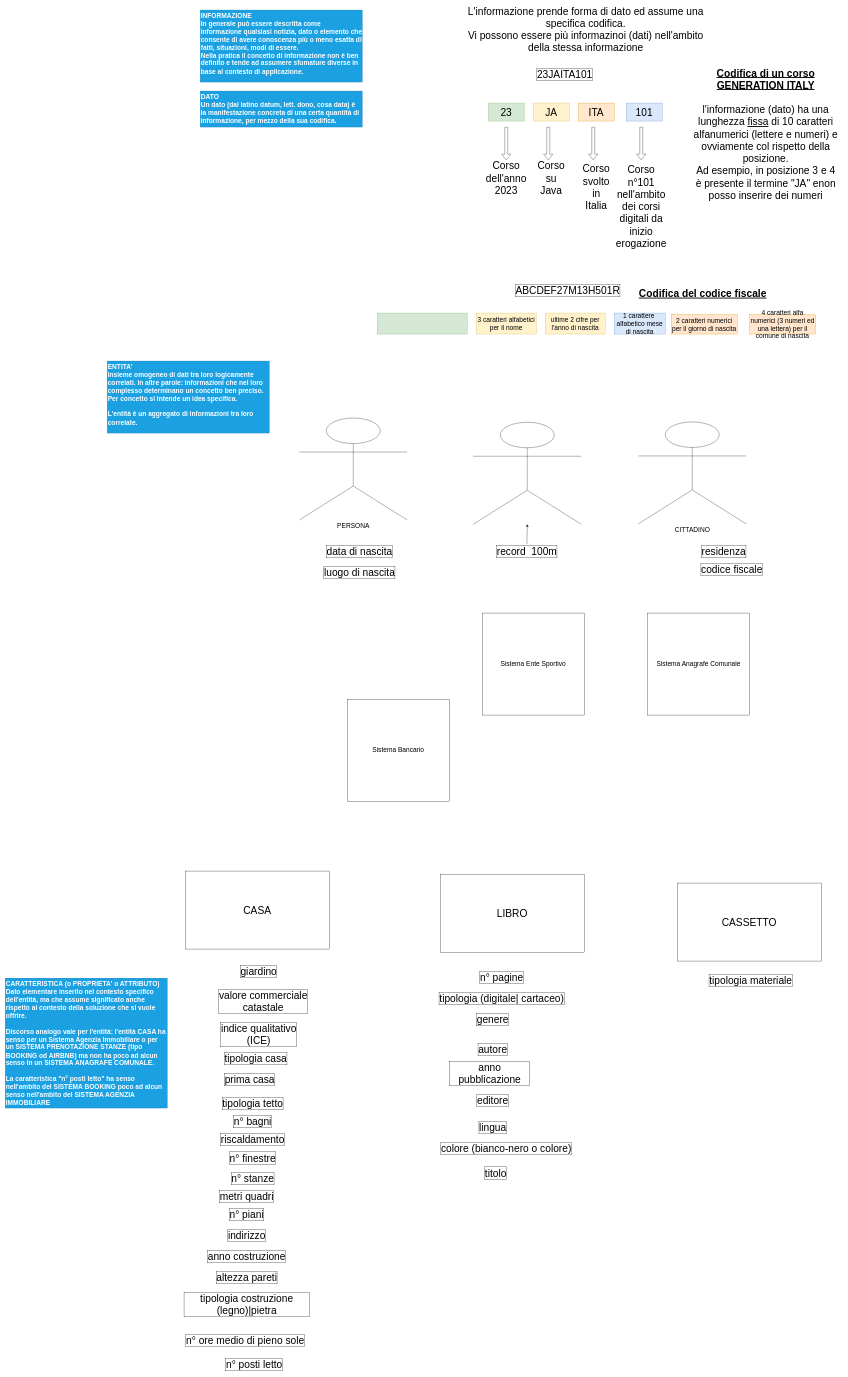
This 848x1377 diagram has some shape labels left out. The shapes that lost their labels are listed below. From the top down, each one's centre as x and y in pixels, then its label:
At point (422, 323): "3 caratteri alfabetici per il cognome".
At point (527, 473): "VELOCISTA".
